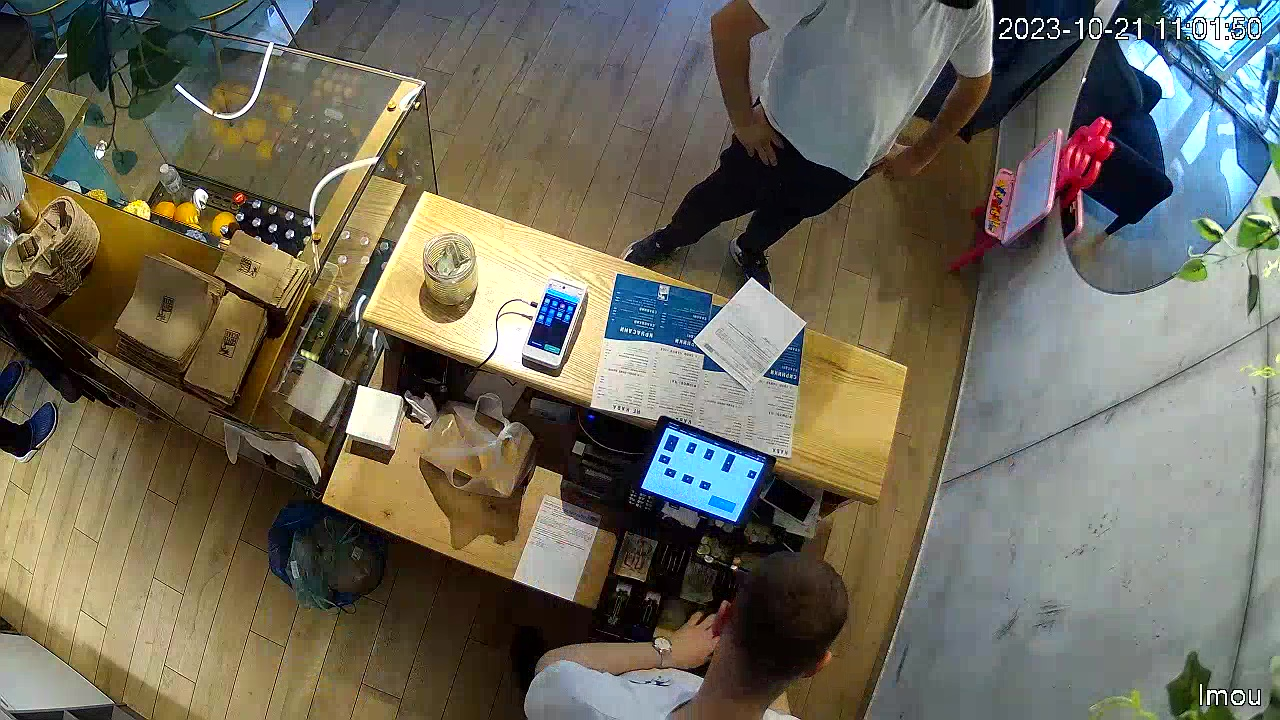openedcash: (592, 514, 789, 702)
